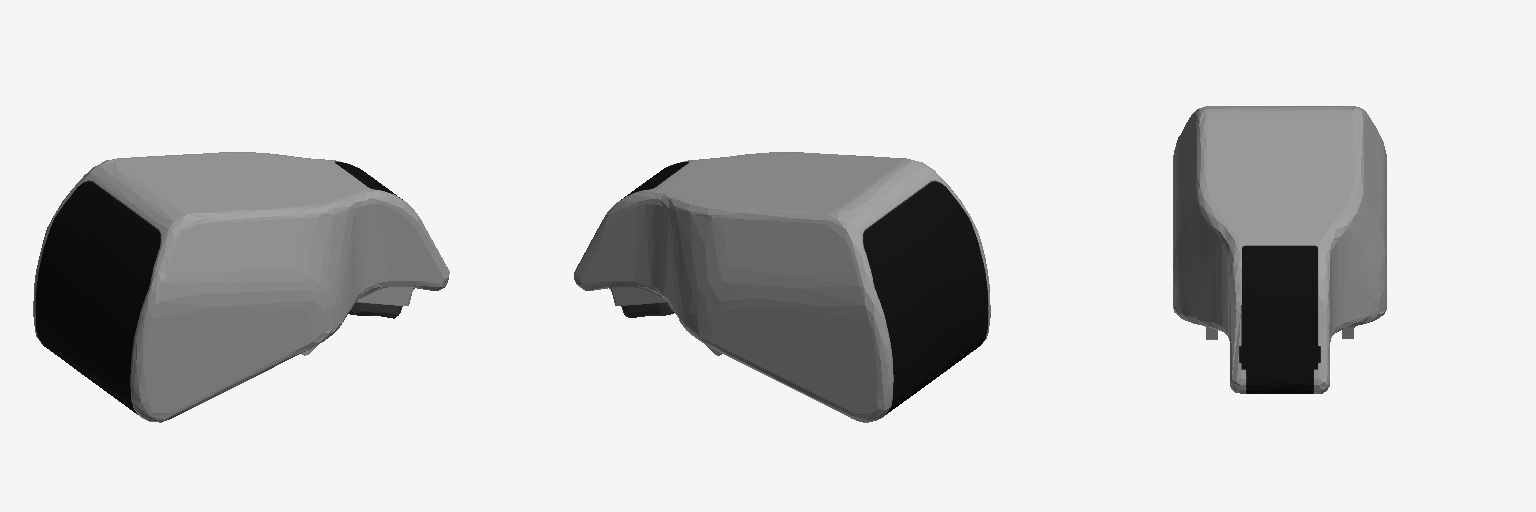
The picture shows the model from 3 angles: view 1: azimuth 30°, elevation 25°; view 2: azimuth 150°, elevation 25°; view 3: azimuth 270°, elevation 25°; orthographic projection.
Parts seen in each view (by area): view 1: /ambf/env/pr2/l_gripper_r_finger_link_/ambf/env/pr2/l_gripper_l_; view 2: /ambf/env/pr2/l_gripper_r_finger_link_/ambf/env/pr2/l_gripper_l_; view 3: /ambf/env/pr2/l_gripper_r_finger_link_/ambf/env/pr2/l_gripper_l_.
Part boxes in pixels (x1,y1,x2,y2): /ambf/env/pr2/l_gripper_r_finger_link_/ambf/env/pr2/l_gripper_l_: (33, 152, 449, 422); /ambf/env/pr2/l_gripper_r_finger_link_/ambf/env/pr2/l_gripper_l_: (574, 152, 990, 422); /ambf/env/pr2/l_gripper_r_finger_link_/ambf/env/pr2/l_gripper_l_: (1173, 106, 1386, 393).
Bounding box in the file's own units: 0.1046 × 0.0548 × 0.0562.
1 materials, 1 textured.